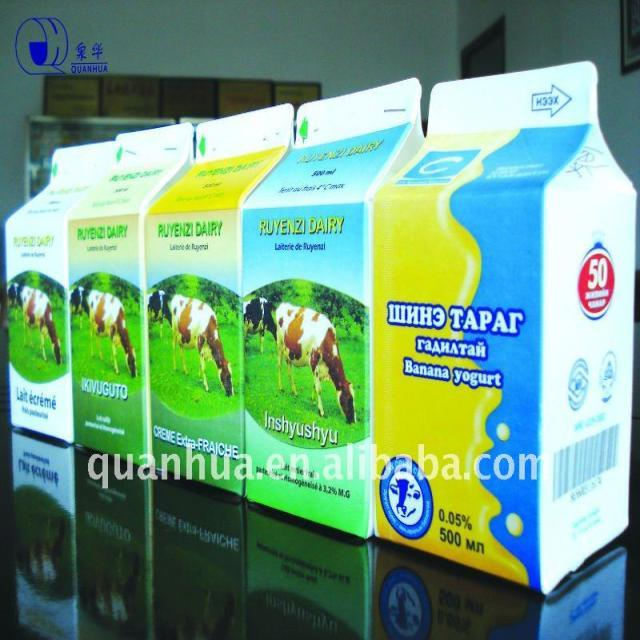Carton: (376, 64, 640, 608), (238, 78, 440, 553), (151, 103, 299, 542), (66, 113, 204, 478), (1, 127, 125, 457)
